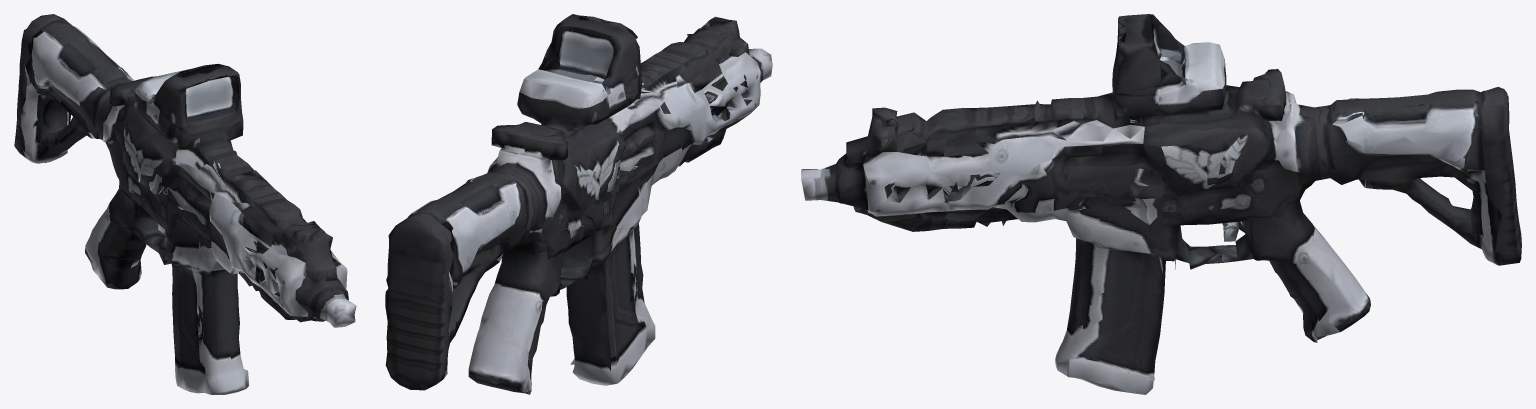
File: w-rifle.glb
3 renders of one model, left to right at view 1: azimuth 30°, elevation 25°; view 2: azimuth 150°, elevation 25°; view 3: azimuth 270°, elevation 25°, orthographic. The views are drawn at different scales.
Visible parts, largest first — view 1: weapon; view 2: weapon; view 3: weapon.
Boxes of the visible parts, box(x1,y1,x2,y2) form: weapon: box(14, 14, 356, 394); weapon: box(385, 14, 772, 394); weapon: box(801, 14, 1521, 394).
Size of the model in its own units: 0.1374 by 0.5531 by 0.9923.
Materials: 1 (1 with a texture image).
